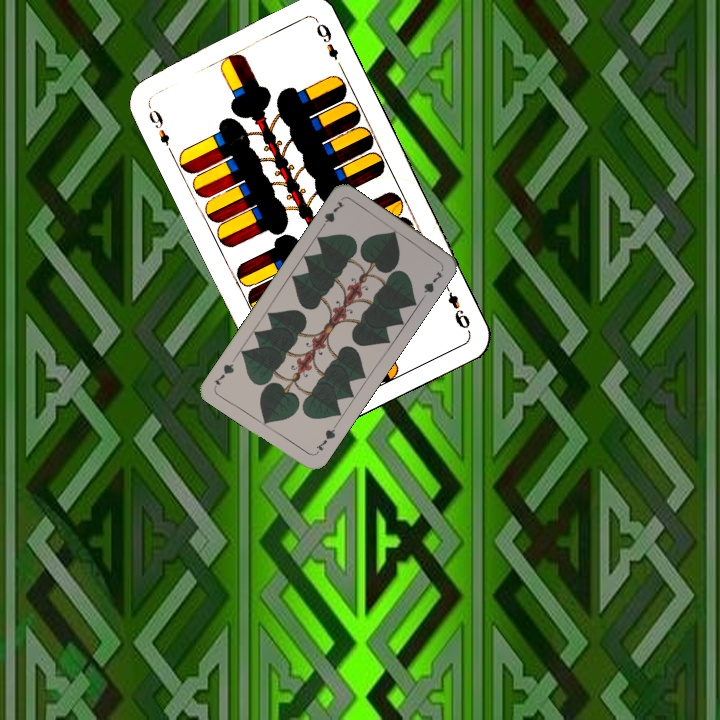E9: (144, 101, 176, 157), (440, 279, 473, 332)
G7: (316, 197, 347, 233), (311, 421, 339, 457)
